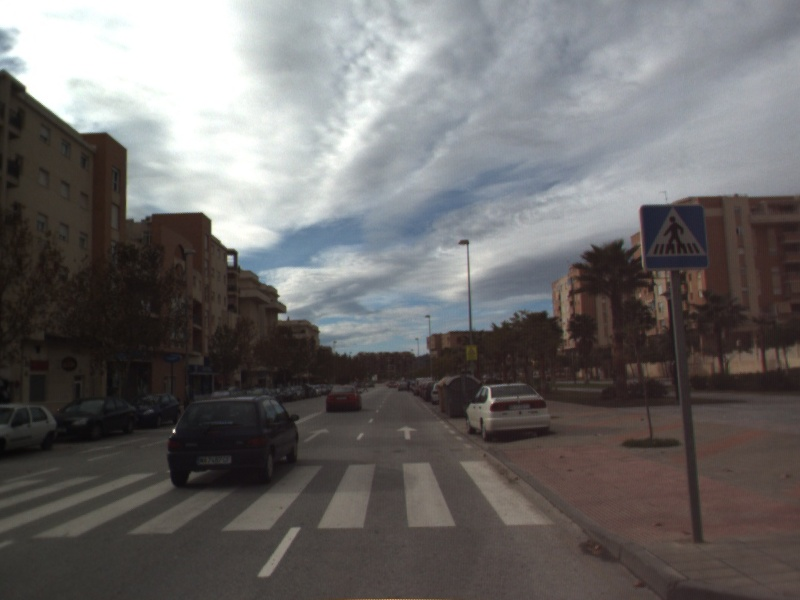STRAIGHT: (301, 426, 332, 444), (395, 423, 420, 442)
